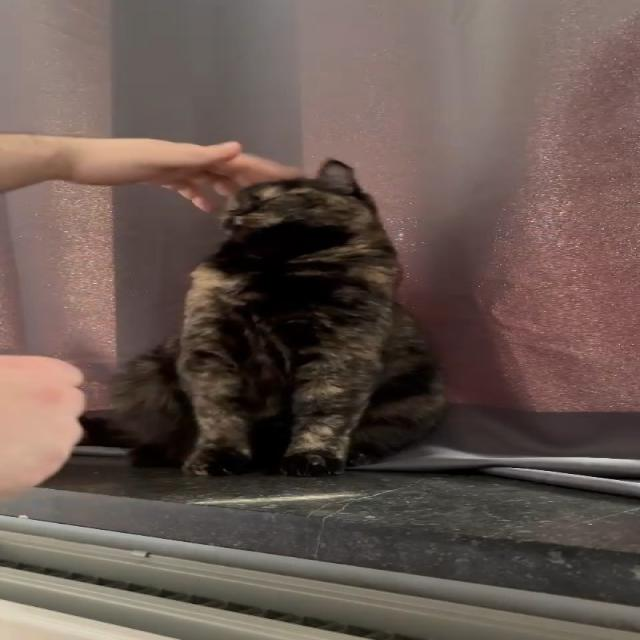authorized: (85, 158, 448, 477)
